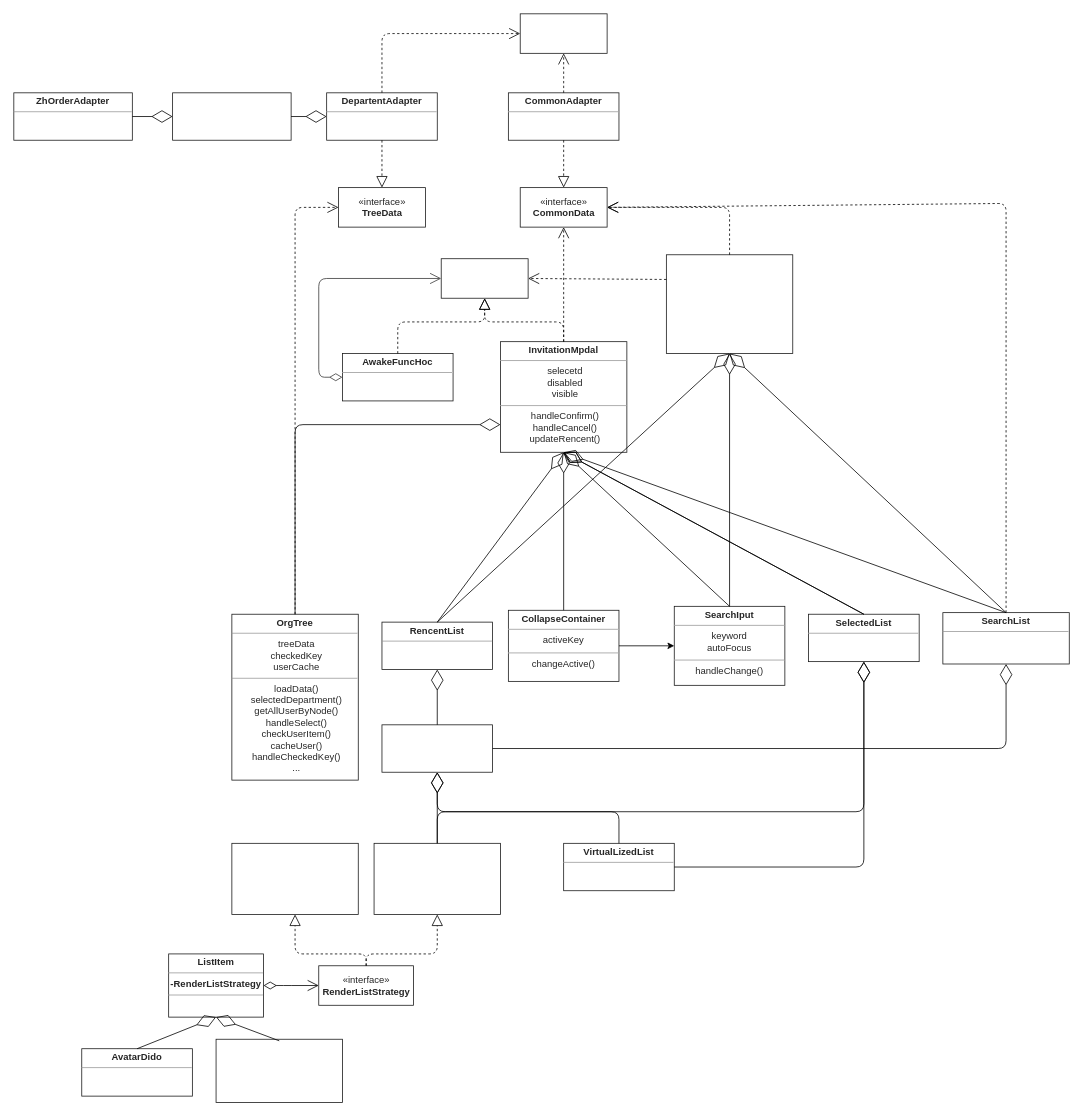
The diagram is 1083 pixels wide and 1116 high, and some of its shapes have lost their labels. Each missing label, with the centre of its shape:
CheckBoxGroupList: the point at 437,748
DepartmentListItem key type expand(): the point at 294,878
DepartMentUserAdapter: the point at 231,116
NormalListItem renderLabel() rendreExtra() onClick(): the point at 278,1070
QuickInvitation selecetd disabled popoverVisible handlePopoverChange() onClick(): the point at 729,304
UserListItem key type check(): the point at 436,878
«interface» awakeInvitation: the point at 484,278
«interface» OrginDataSource: the point at 563,33
